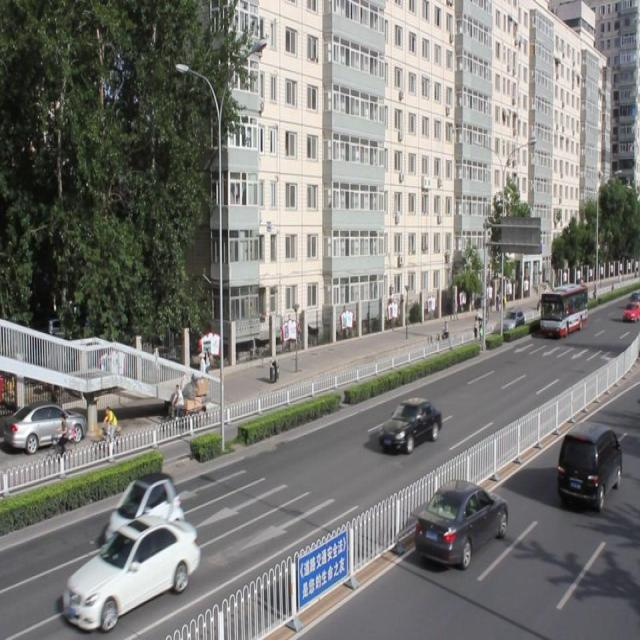car: (63, 512, 200, 629), (412, 476, 507, 567), (105, 472, 184, 552), (554, 419, 621, 508), (377, 394, 442, 452)
